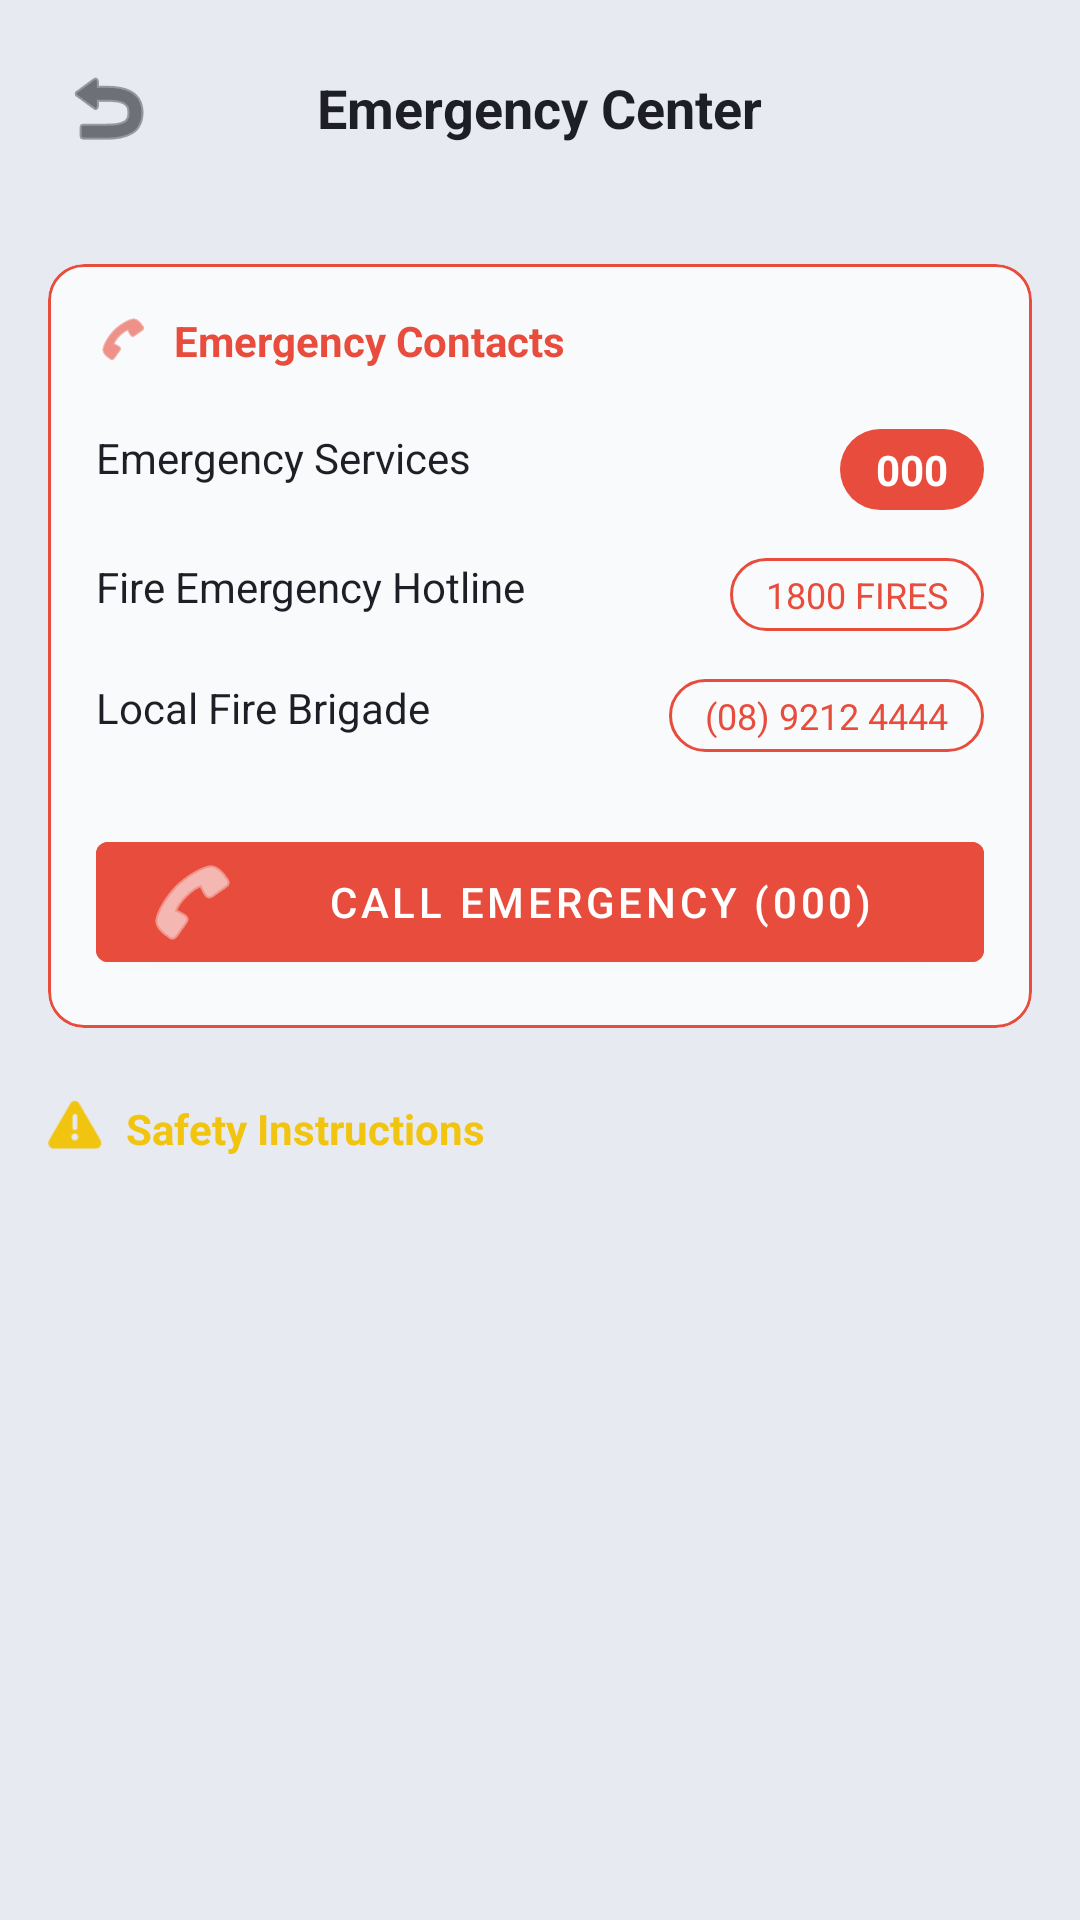

Screen size 1080 × 1920. Icon name, then its box in pixels as (x1, y1, x2, y2):
alert: (48, 1100, 102, 1149)
call: (102, 318, 144, 360)
revert: (75, 77, 144, 140)
